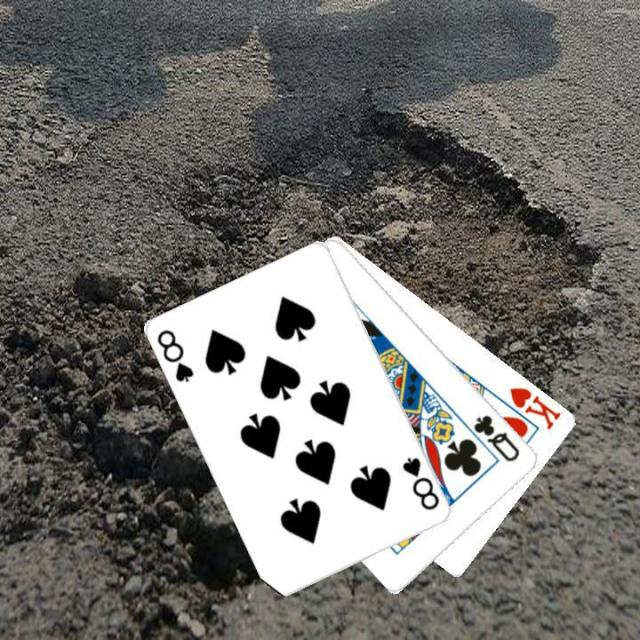8S: (398, 453, 442, 512), (153, 325, 196, 385)
KH: (506, 383, 564, 432)
QC: (469, 411, 523, 464)
